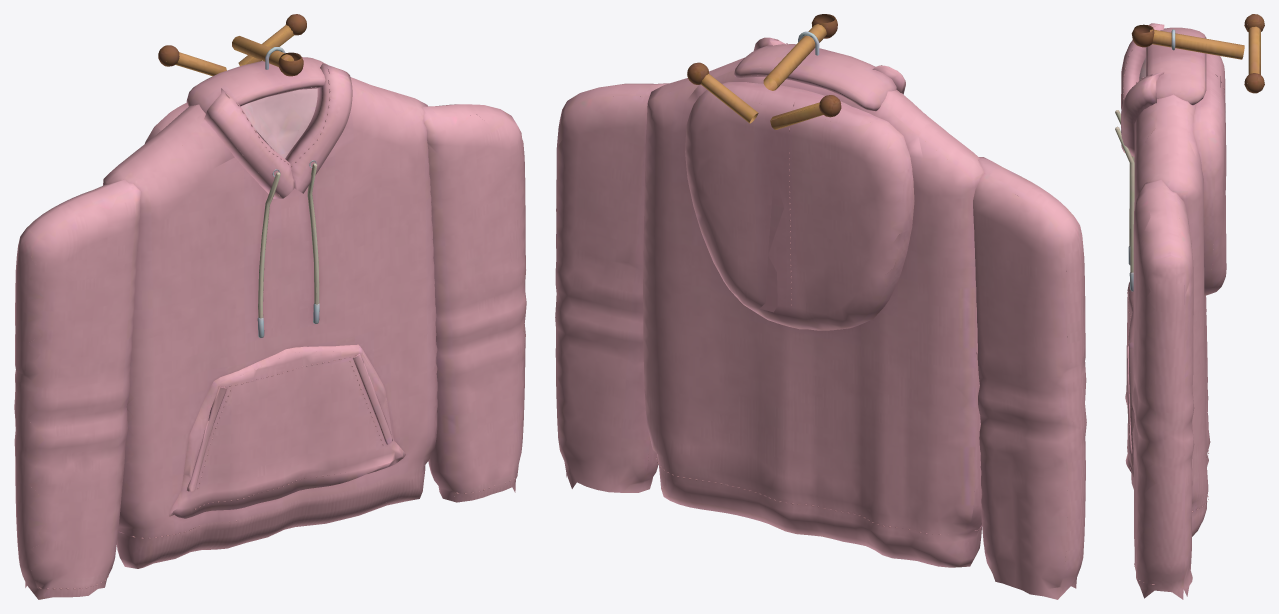
Rendered from kazak.glb.
The picture shows the model from 3 angles, left to right: view 1: azimuth 30°, elevation 25°; view 2: azimuth 150°, elevation 25°; view 3: azimuth 270°, elevation 25°; orthographic projection. The views are drawn at different scales.
Parts seen in each view (by area): view 1: kazak; view 2: kazak; view 3: kazak.
Boxes of the visible parts, <box> form: kazak: <box>14,14,526,599</box>; kazak: <box>555,14,1086,599</box>; kazak: <box>1115,14,1264,599</box>.
Bounding box in the file's own units: 0.8278 × 0.7698 × 0.2244.
1 material, 1 textured.
